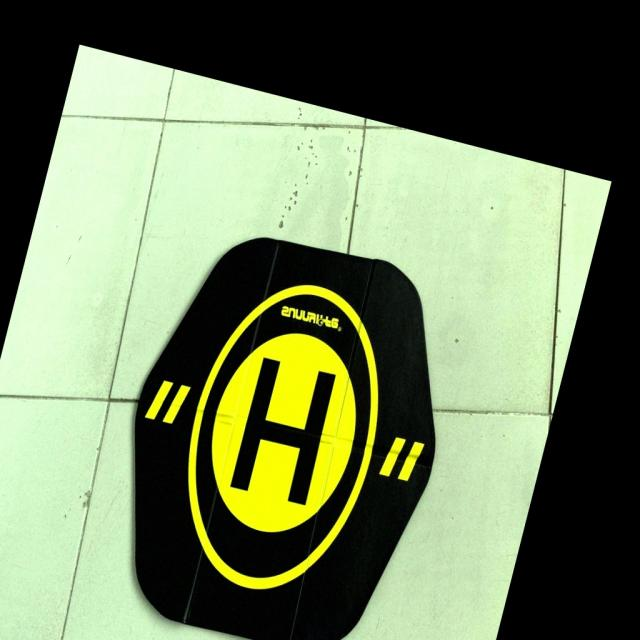helipad: (184, 278, 384, 593)
